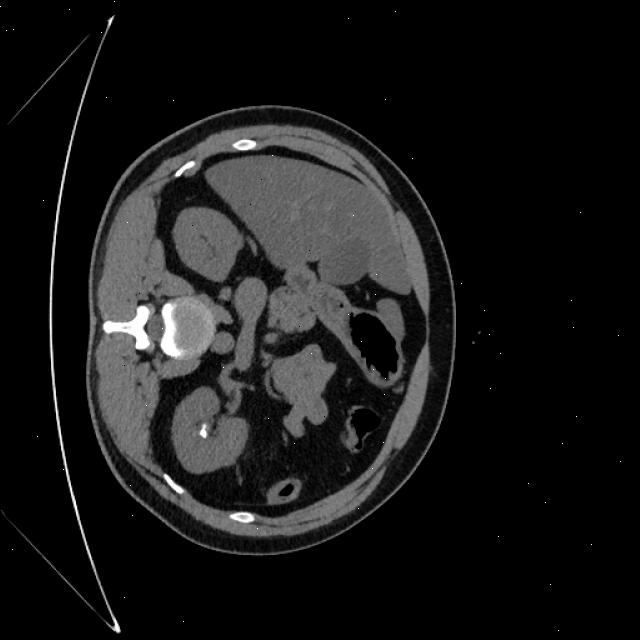kidneystone: (198, 424, 208, 439)
